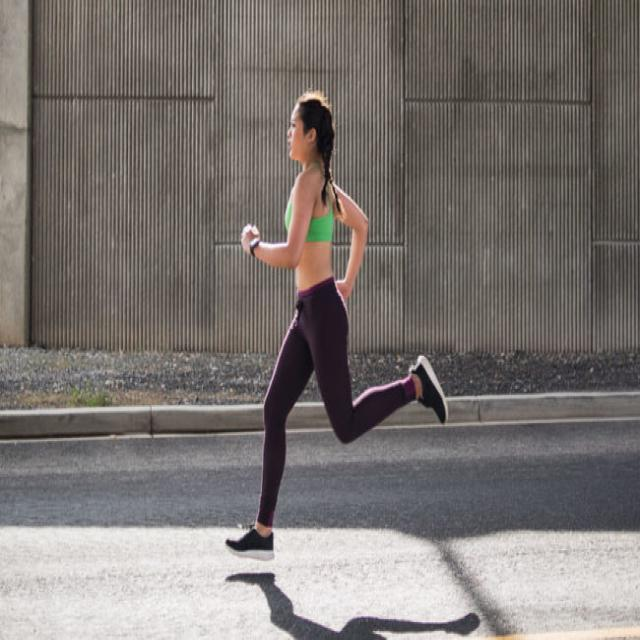Person: (225, 90, 448, 560)
